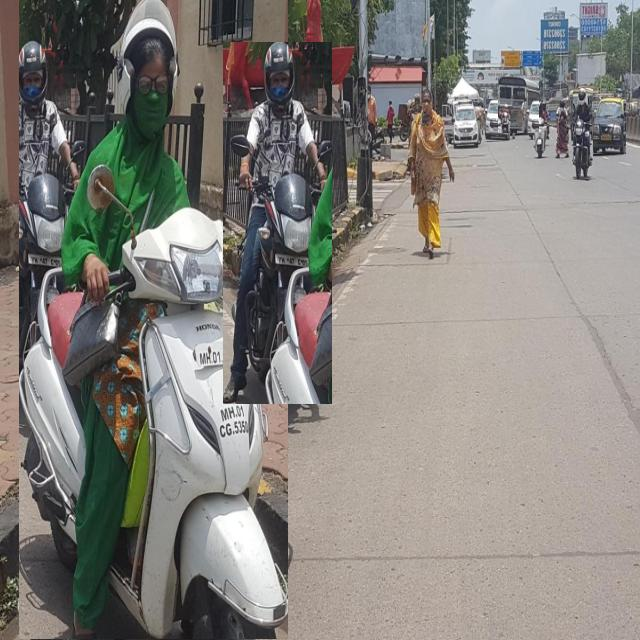bus: (498, 76, 539, 133)
car: (592, 98, 625, 154), (452, 102, 480, 149), (485, 100, 510, 141)
motorcycle: (19, 0, 288, 639), (223, 42, 331, 404), (573, 89, 592, 179), (534, 102, 548, 158)
